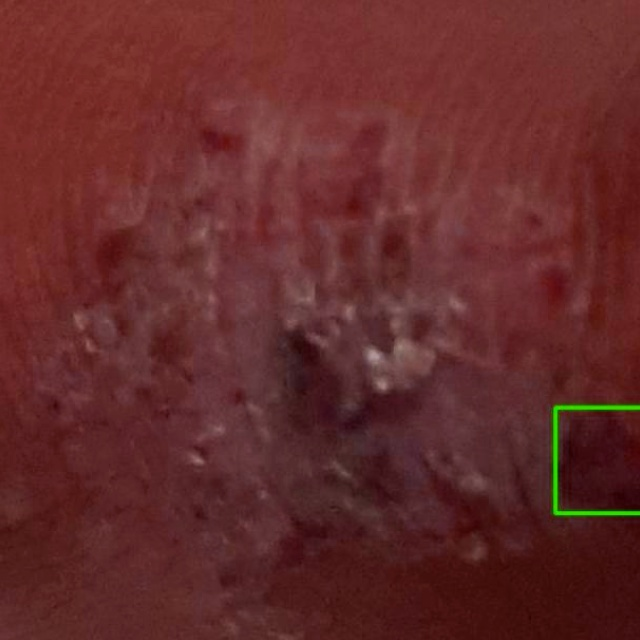Contact Dermatitis: (555, 407, 639, 513)
